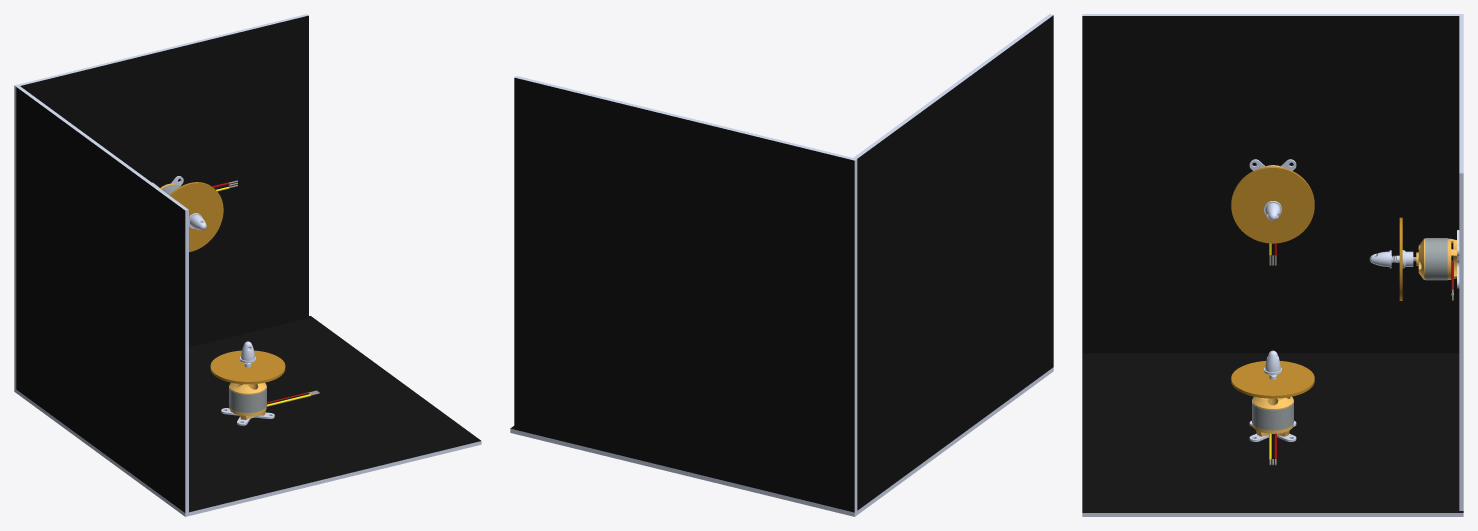
File: reaction-wheel.glb
3 views of the same model, side by side, from view 1: azimuth 30°, elevation 25°; view 2: azimuth 150°, elevation 25°; view 3: azimuth 270°, elevation 25° (orthographic). The views are drawn at different scales.
Visible parts, largest first — view 1: minor_project_final_asm; view 2: minor_project_final_asm; view 3: minor_project_final_asm.
Boxes of the visible parts, x1,y1,x2,y2 form: minor_project_final_asm: [14, 14, 481, 516]; minor_project_final_asm: [510, 14, 1053, 516]; minor_project_final_asm: [1082, 14, 1463, 516].
Bounding box in the file's own units: 0.25 × 0.247 × 0.25.
